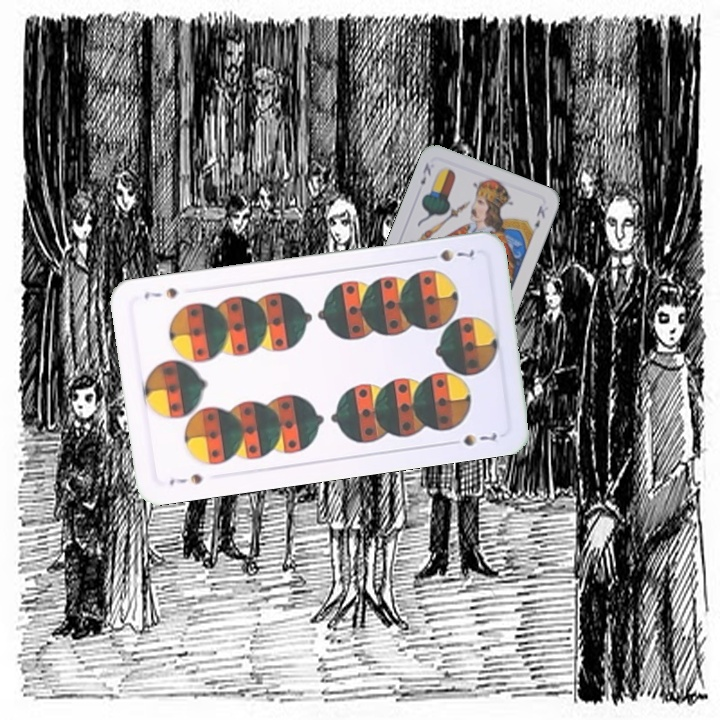EK: (416, 159, 434, 187)
S7: (421, 245, 477, 265), (165, 469, 205, 488)
